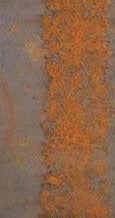Corrosion: (36, 1, 115, 218)
